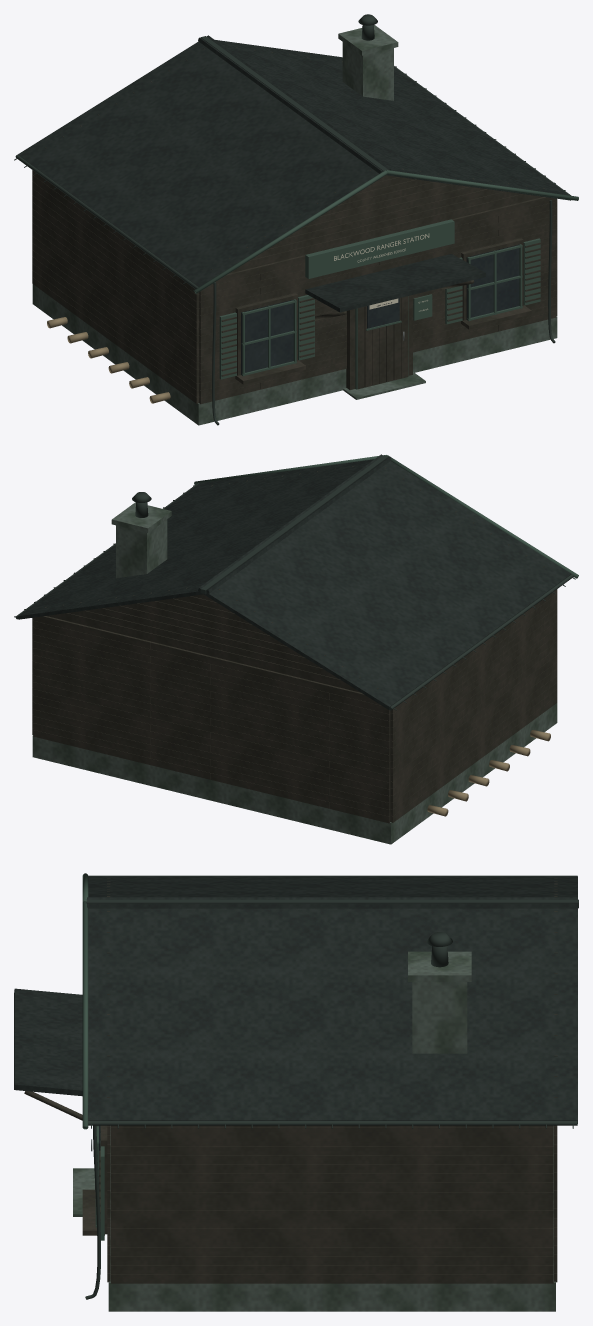
Rendered from ranger-lodge.glb.
3 renders of one model, top to bottom at view 1: azimuth 30°, elevation 25°; view 2: azimuth 150°, elevation 25°; view 3: azimuth 270°, elevation 25°, orthographic. The views are drawn at different scales.
Visible parts, largest first — view 1: Standing-seam roof pitch, Standing-seam roof pitch.001, Stone lodge plinth, Cantilevered porch roof, Ranger station sign, Rain-marked glass, Rain-marked glass.001, Stone chimney stack, Gable cladding board, Gable cladding board.001, Gable cladding board.002, Gable cladding board.003 (+53 smaller); view 2: Standing-seam roof pitch, Standing-seam roof pitch.001, Stone lodge plinth, Stone chimney stack, Gable cladding board.010, Gable cladding board.011, Gable cladding board.012, Gable cladding board.013, End elevation weatherboard.003, End elevation weatherboard.007, End elevation weatherboard.009, End elevation weatherboard.014 (+67 smaller); view 3: Standing-seam roof pitch.001, Standing-seam roof pitch, Stone lodge plinth, Cantilevered porch roof, End elevation weatherboard.018, End elevation weatherboard.019, End elevation weatherboard.020, End elevation weatherboard.021, End elevation weatherboard.023, End elevation weatherboard.024, End elevation weatherboard.025, End elevation weatherboard.026 (+19 smaller).
Boxes of the visible parts, box(x1,y1,x2,y2) form: Standing-seam roof pitch: box(18, 35, 391, 286); Standing-seam roof pitch.001: box(198, 37, 570, 200); Stone lodge plinth: box(32, 284, 557, 425); Cantilevered porch roof: box(305, 254, 485, 312); Ranger station sign: box(305, 219, 454, 278); Rain-marked glass: box(245, 303, 293, 372); Rain-marked glass.001: box(470, 248, 519, 317); Stone chimney stack: box(342, 42, 393, 100); Gable cladding board: box(211, 188, 544, 270); Gable cladding board.001: box(229, 185, 526, 259); Gable cladding board.002: box(246, 183, 508, 248); Gable cladding board.003: box(264, 180, 491, 238); Standing-seam roof pitch: box(198, 454, 570, 709); Standing-seam roof pitch.001: box(18, 456, 391, 619); Stone lodge plinth: box(32, 703, 557, 844); Stone chimney stack: box(116, 519, 167, 578); Gable cladding board.010: box(45, 607, 378, 690); Gable cladding board.011: box(63, 604, 360, 678); Gable cladding board.012: box(80, 602, 343, 668); Gable cladding board.013: box(98, 599, 325, 656); End elevation weatherboard.003: box(390, 676, 557, 802); End elevation weatherboard.007: box(390, 648, 557, 775); End elevation weatherboard.009: box(390, 635, 557, 761); End elevation weatherboard.014: box(390, 601, 557, 727); Standing-seam roof pitch.001: box(87, 897, 577, 1123); Standing-seam roof pitch: box(87, 876, 577, 908); Stone lodge plinth: box(108, 1126, 555, 1311); Cantilevered porch roof: box(14, 988, 82, 1096); End elevation weatherboard.018: box(111, 1274, 553, 1283); End elevation weatherboard.019: box(111, 1265, 553, 1274); End elevation weatherboard.020: box(111, 1256, 553, 1265); End elevation weatherboard.021: box(111, 1247, 553, 1256); End elevation weatherboard.023: box(111, 1228, 553, 1237); End elevation weatherboard.024: box(111, 1219, 553, 1228); End elevation weatherboard.025: box(111, 1210, 553, 1219); End elevation weatherboard.026: box(111, 1201, 553, 1210).
Bounding box in the file's own units: 10.97 × 6.64 × 10.21.
10 materials, 4 textured.
